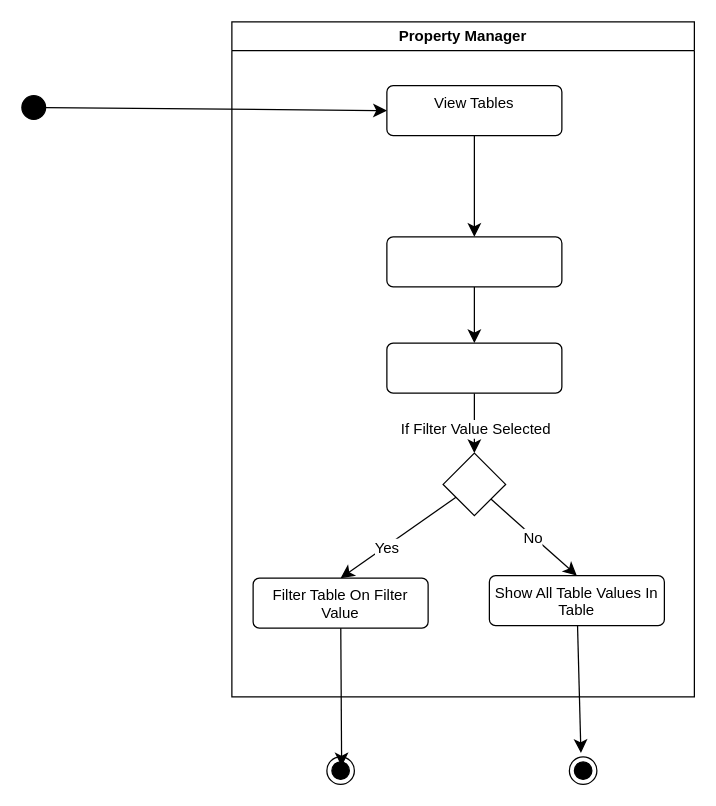
Some shapes in this 716 by 806 pixel diagram are drawn without their labels. Here are the shapes that lost their labels. From the top down, the centre of each, then its label:
pixel 474 261: Click Filter Field
pixel 474 367: Select Filter Value From Dropdown
